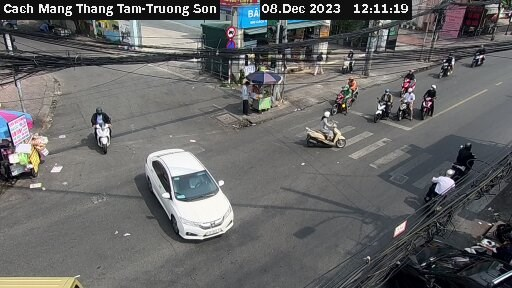car: (140, 150, 238, 242)
motorbike: (73, 108, 133, 159), (301, 111, 358, 154), (416, 173, 457, 209), (439, 138, 477, 171), (364, 86, 397, 120), (324, 85, 355, 118), (417, 81, 444, 116), (392, 85, 416, 120), (468, 39, 493, 72), (393, 68, 429, 90), (336, 48, 363, 77), (338, 72, 369, 97), (434, 52, 461, 80)
